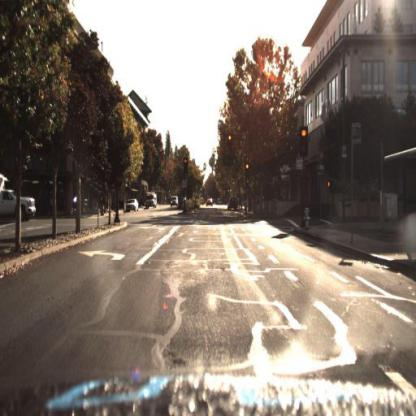car: (1, 170, 39, 224), (122, 197, 139, 212), (145, 193, 160, 209), (227, 194, 239, 213), (170, 195, 178, 210)
trafficLight: (226, 132, 233, 148)
trafficLight-Red: (301, 124, 311, 154), (183, 155, 189, 170)
trafficLight-Yellow: (244, 159, 250, 178)
